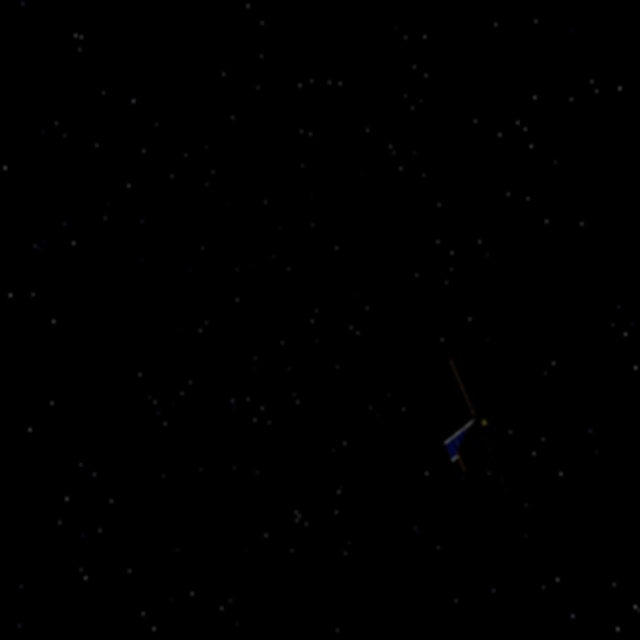medium_debris: (443, 345, 528, 503)
